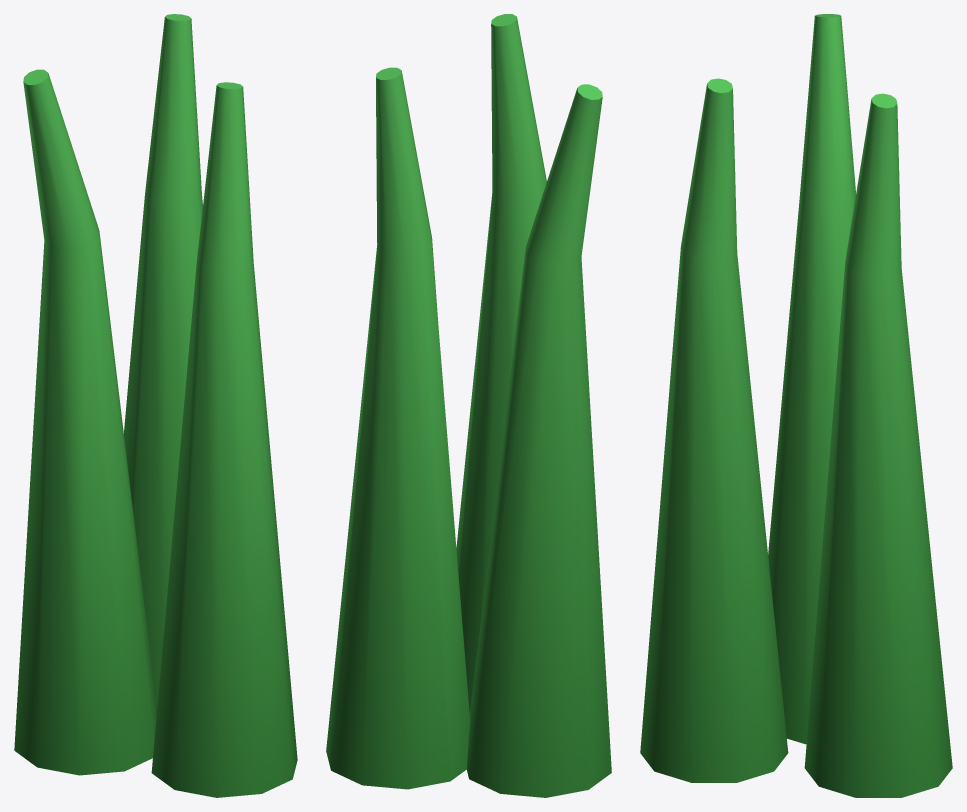
The model's file is Grass_R.fbx.
The picture shows the model from 3 angles, left to right: view 1: azimuth 30°, elevation 25°; view 2: azimuth 150°, elevation 25°; view 3: azimuth 270°, elevation 25°; orthographic projection.
Parts seen in each view (by area): view 1: Grass_R; view 2: Grass_R; view 3: Grass_R.
Boxes of the visible parts, x1=… form: Grass_R: x1=14, y1=14, x2=297, y2=797; Grass_R: x1=326, y1=14, x2=611, y2=797; Grass_R: x1=640, y1=14, x2=952, y2=797.
Bounding box in the file's own units: 39.96 × 111 × 46.49.
